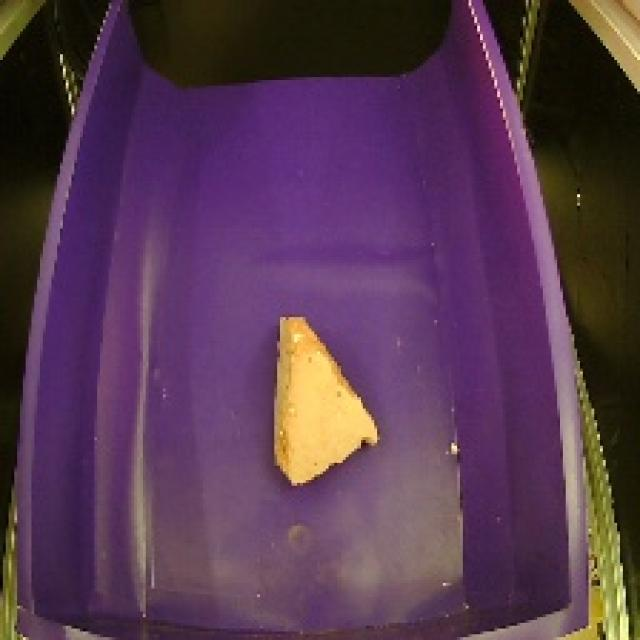brick: (263, 304, 389, 498)
